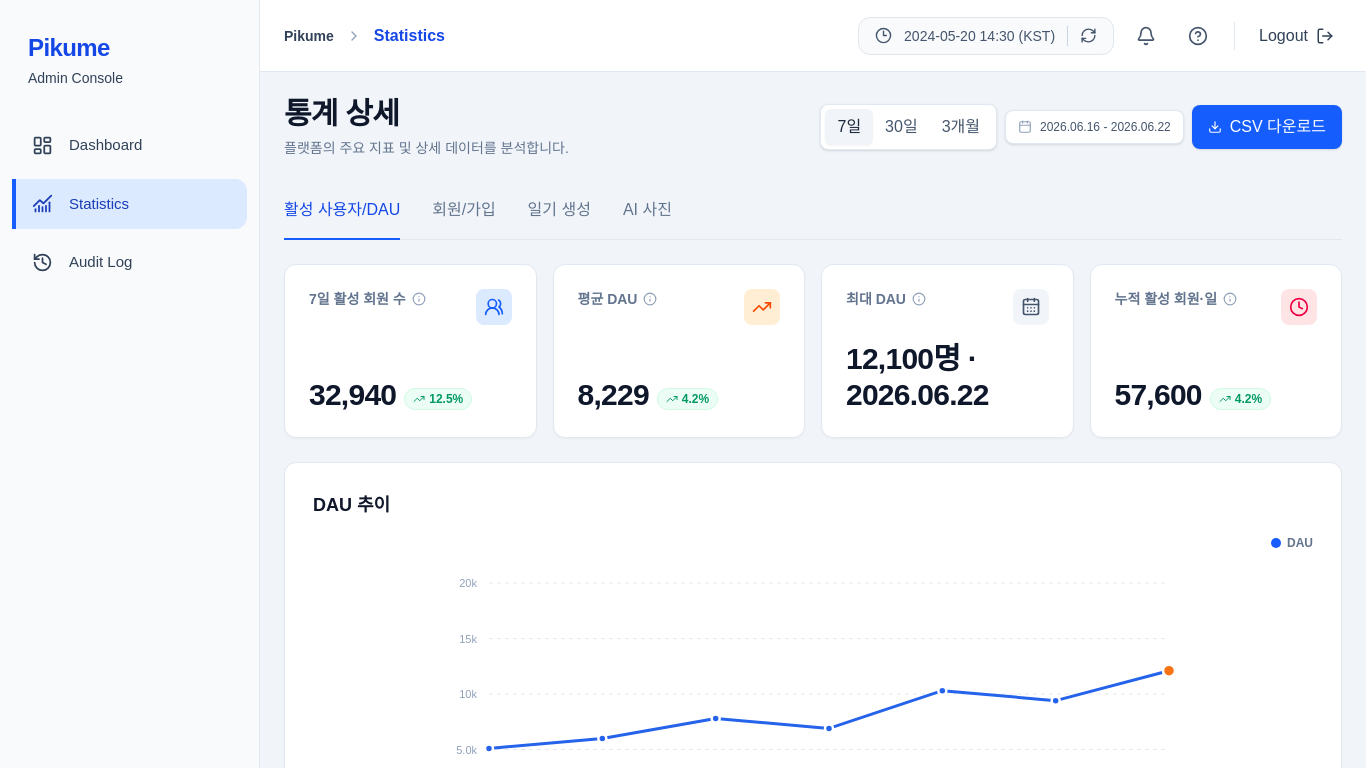
Test case: StatisticsPage › updates view and dates when clicking different ranges
Toggle to 30 days
What coordinates should you click on to do the following:
click the button "30일"
I would click on:
 (901, 127)
Its box is [873,109,930,145].
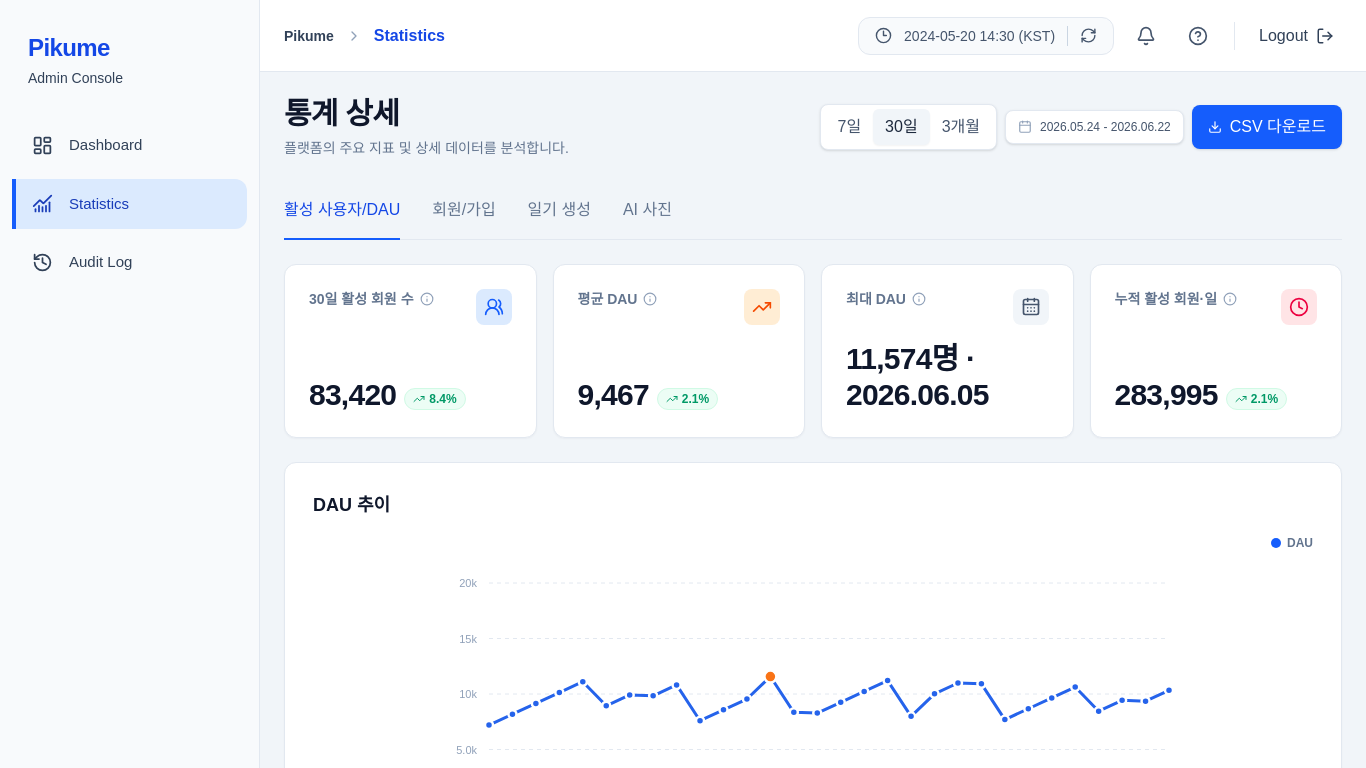
Result: the text "2026.05.24 - 2026.06.22" is shown at [1040,119,1171,135]
Result: the text "30일 활성 회원 수" is shown at [309,289,434,309]
Toggle to 3 months
What coordinates should you click on to do the following:
click the button "3개월"
I would click on:
 (961, 127)
Its box is [930,109,992,145].
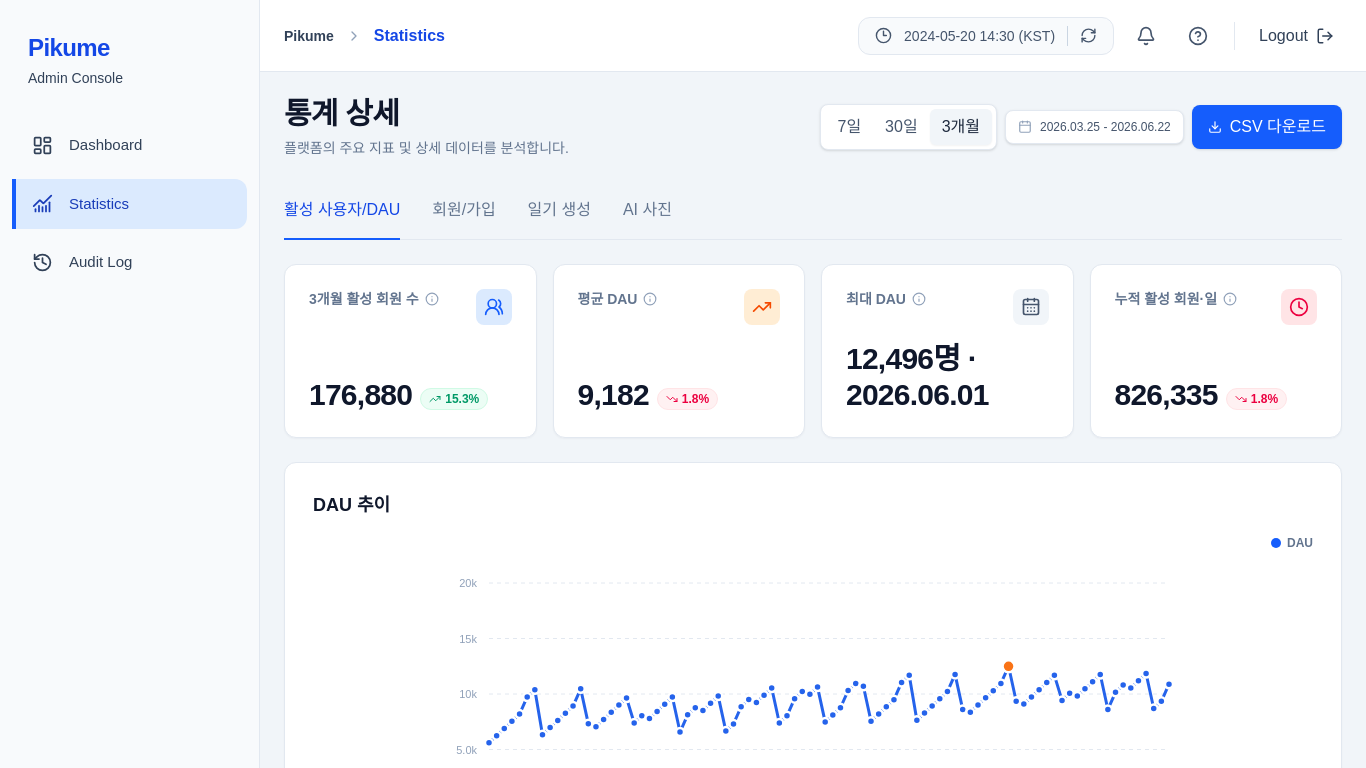
Result: the text "2026.03.25 - 2026.06.22" is shown at [1040,119,1171,135]
Result: the text "3개월 활성 회원 수" is shown at [309,289,439,309]
